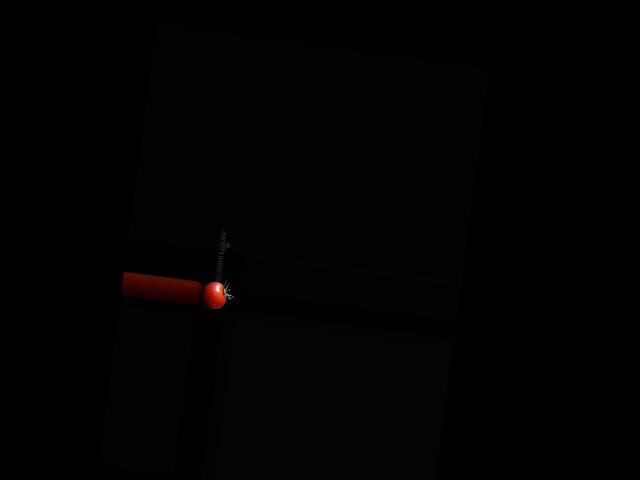tomato: (201, 280, 227, 309)
